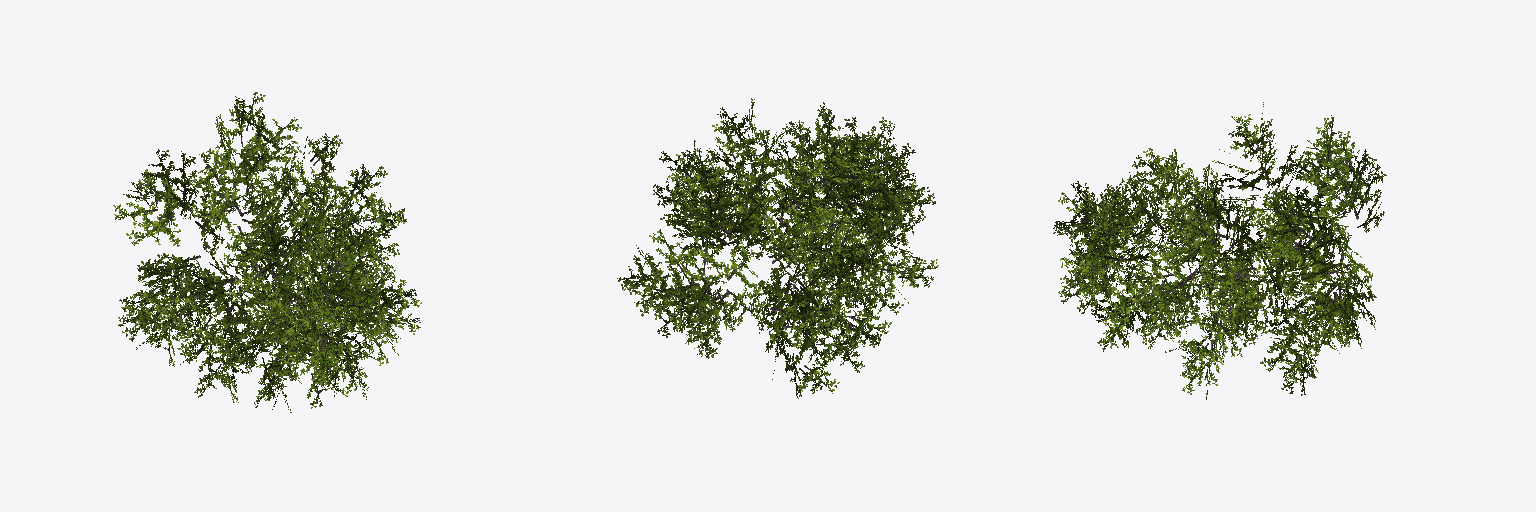
3 views of the same model, side by side, from view 1: azimuth 30°, elevation 25°; view 2: azimuth 150°, elevation 25°; view 3: azimuth 270°, elevation 25° (orthographic).
Parts seen in each view (by area): view 1: LowPolyTree_Default_OBJ_0; view 2: LowPolyTree_Default_OBJ_0; view 3: LowPolyTree_Default_OBJ_0.
Part boxes in pixels (x1,y1,x2,y2): LowPolyTree_Default_OBJ_0: (113, 92, 421, 412); LowPolyTree_Default_OBJ_0: (617, 98, 938, 398); LowPolyTree_Default_OBJ_0: (1053, 102, 1386, 399).
Bounding box in the file's own units: 78.33 × 75.16 × 116.
Materials: 2 (2 with a texture image).